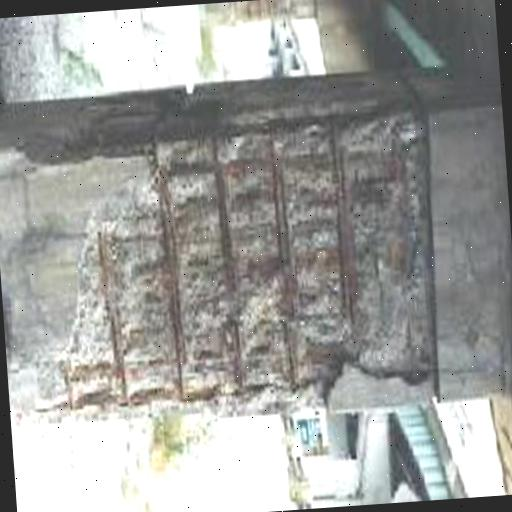spalling: (20, 81, 442, 430)
